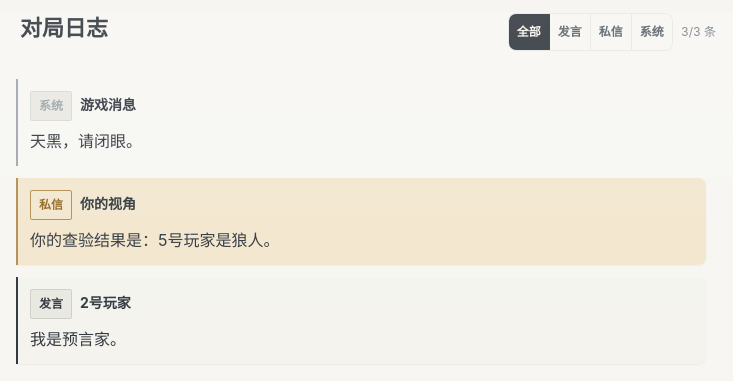
Test: ChatHistory › filters log rows by kind
Click the button "发言" at (570, 32), box [550,14,591,50]
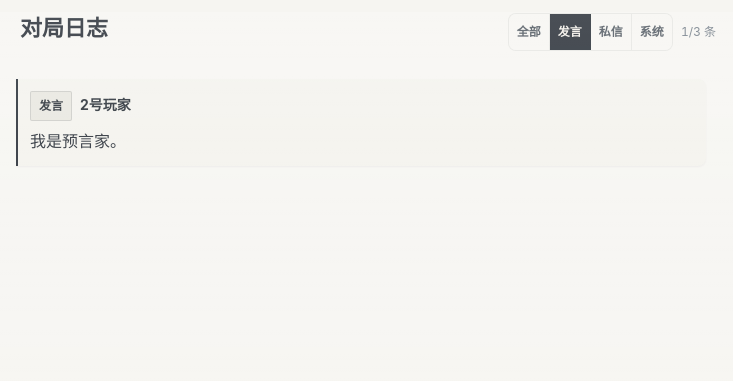
Expected: the text "我是预言家。" is shown, [30,131,126,151]
Expected: the text "1/3 条" is shown, [681,23,716,42]
